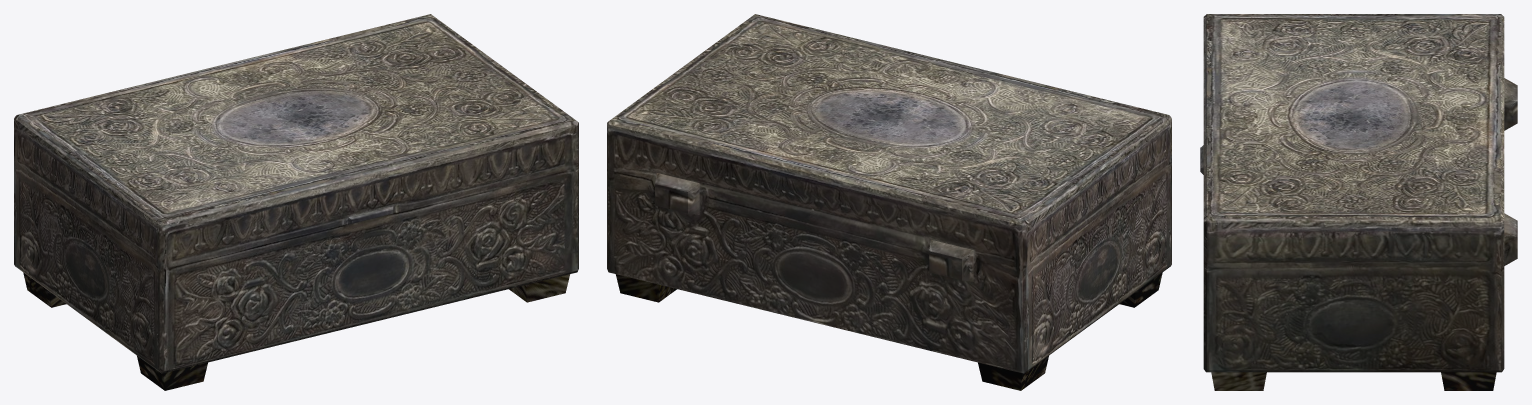
3 renders of one model, left to right at view 1: azimuth 30°, elevation 25°; view 2: azimuth 150°, elevation 25°; view 3: azimuth 270°, elevation 25°, orthographic.
Visible parts, largest first — view 1: RoseChest_001; view 2: RoseChest_001; view 3: RoseChest_001.
Part boxes in pixels (x1,y1,x2,y2): RoseChest_001: [14, 14, 578, 390]; RoseChest_001: [607, 14, 1171, 390]; RoseChest_001: [1200, 14, 1517, 390].
Bounding box in the file's own units: 5.87 × 2.33 × 3.81.
1 material, 1 textured.
